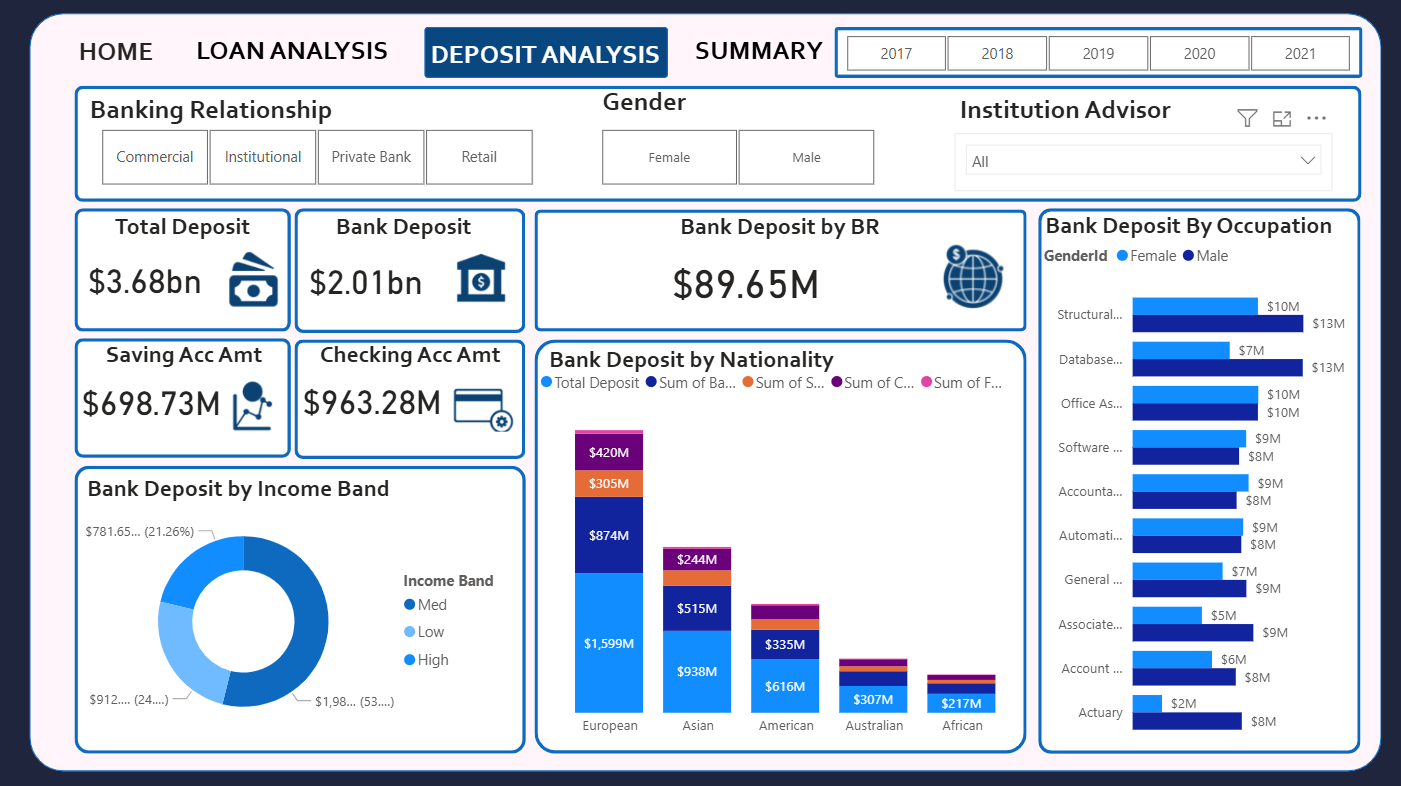

What the dashboard file says about the page in this screenshot:
{"tool":"powerbi","page":{"name":"Deposit Analysis","canvas":[1280,720],"ordinal":2},"visuals":[{"type":"shape","box":[29.6,14.8,1229.1,689.3],"z":0},{"type":"shape","box":[761.2,27.5,480,46.2],"z":1000},{"type":"shape","box":[70,81.1,1170,105.6],"z":2000},{"type":"shape","box":[70,191.8,196.6,112.2],"z":3000},{"type":"shape","box":[270.2,191.8,209.9,113.4],"z":4000},{"type":"shape","box":[70,425.9,410.2,261.8],"z":5000},{"type":"shape","box":[947.1,191.8,293.2,495.8],"z":6000},{"type":"textbox","box":[273.9,190.6,191.8,45.8],"z":7000},{"type":"textbox","box":[90.5,190.6,155.6,43.4],"z":9000},{"type":"textbox","box":[926.2,190,315,43.8],"z":10000},{"type":"shape","box":[388.8,27.5,221.2,46.2],"z":11000},{"type":"textbox","box":[176.2,28.8,187.5,43.8],"z":12000},{"type":"textbox","box":[387.5,31.2,222.5,45],"z":13000},{"type":"textbox","box":[608.8,28.8,167.5,46.2],"z":14000},{"type":"slicer","fields":{"Values":["Banking_Clients.Year"]},"box":[746.2,28.8,507.5,45],"z":15000},{"type":"textbox","box":[15,29,187,44],"z":16000},{"type":"shape","box":[488.6,193,447.6,111],"z":17000},{"type":"shape","box":[70,310.1,196.6,108.6],"z":18000},{"type":"shape","box":[270.2,311.3,209.9,108.6],"z":19000},{"type":"shape","box":[488.6,311.3,447.6,376.4],"z":20000},{"type":"textbox","box":[488.6,311.3,285.9,45.8],"z":21000},{"type":"textbox","box":[59.1,428.3,320.9,45.8],"z":22000},{"type":"textbox","box":[284.7,306.4,181,44.6],"z":23000},{"type":"textbox","box":[78.4,306.4,183.4,44.6],"z":24000},{"type":"textbox","box":[575.5,190.6,273.9,36.2],"z":25000},{"type":"actionButton","box":[58.8,26.2,100,45],"z":26000},{"type":"actionButton","box":[623.8,30,130,40],"z":27000},{"type":"card","fields":{"Values":["Banking_Clients.Total Deposit"]},"box":[59.1,236.5,150.8,41],"z":28000},{"type":"card","fields":{"Values":["Sum(Banking_Clients.Saving Accounts)"]},"box":[54.3,342.6,171.3,48.3],"z":29000},{"type":"card","fields":{"Values":["Sum(Banking_Clients.Checking Accounts)"]},"box":[270.2,336.6,141.2,60.3],"z":30000},{"type":"card","fields":{"Values":["Sum(Banking_Clients.Bank Deposits)"]},"box":[264.2,235.3,141.2,44.6],"z":31000},{"type":"donutChart","fields":{"Category":["Banking_Clients.Income Band"],"Y":["Banking_Clients.Total Deposit"]},"box":[73.6,456,400.5,224.4],"z":32000},{"type":"columnChart","fields":{"Category":["Banking_Clients.Nationality"],"Y":["Banking_Clients.Total Deposit","Sum(Banking_Clients.Bank Deposits)","Sum(Banking_Clients.Saving Accounts)","Sum(Banking_Clients.Checking Accounts)","Sum(Banking_Clients.Foreign Currency Account)"]},"box":[488.6,329.4,458.4,351.1],"z":33000},{"type":"clusteredBarChart","fields":{"Category":["Banking_Clients.Occupation"],"Y":["Sum(Banking_Clients.Bank Deposits)"],"Series":["Banking_Clients.GenderId"]},"box":[947.1,214.7,293.2,472.9],"z":34000},{"type":"textbox","box":[80,81.2,273.8,42.5],"z":35000},{"type":"textbox","box":[545,75,273.8,42.5],"z":36000},{"type":"textbox","box":[870,81.2,316.2,42.5],"z":37000},{"type":"slicer","fields":{"Values":["Banking_Clients.IAId"]},"box":[870,123.8,343.8,52.5],"z":38000},{"type":"slicer","fields":{"Values":["Banking_Clients.GenderId"]},"box":[523.8,113.8,297.5,63.8],"z":39000},{"type":"slicer","fields":{"Values":["Banking_Clients.BRId"]},"box":[68.8,113.8,441.2,63.8],"z":40000},{"type":"actionButton","box":[170,28.8,193.8,40],"z":41000},{"type":"actionButton","box":[58.8,27.5,100,40],"z":42000},{"type":"actionButton","box":[632.5,27.5,121.2,40],"z":43000},{"type":"card","fields":{"Values":["Sum(Banking_Clients.Foreign Currency Account)"]},"box":[587.5,229.2,187,56.7],"z":44000},{"type":"image","box":[405.4,216,67.6,76],"z":44001},{"type":"image","box":[407.8,342.6,67.6,60.3],"z":44002},{"type":"image","box":[201.5,342.6,57.9,60.3],"z":44003},{"type":"image","box":[196.6,222,67.6,70],"z":44004},{"type":"image","box":[848.1,213.5,78.4,78.4],"z":44005}]}

Visuals, with their boxes in screenshot pixels (x1, y1, x2, y2), scaled from the page's 1280x720 canvas onto the 1401x786 screenshot:
shape: box(32, 16, 1378, 769)
shape: box(833, 30, 1359, 80)
shape: box(77, 89, 1357, 204)
shape: box(77, 209, 292, 332)
shape: box(296, 209, 525, 333)
shape: box(77, 465, 526, 751)
shape: box(1037, 209, 1358, 751)
textbox: box(300, 208, 510, 258)
textbox: box(99, 208, 269, 255)
textbox: box(1014, 207, 1359, 255)
shape: box(426, 30, 668, 80)
textbox: box(193, 31, 398, 79)
textbox: box(424, 34, 668, 83)
textbox: box(666, 31, 850, 82)
slicer - Banking_Clients.Year: box(817, 31, 1372, 81)
textbox: box(16, 32, 221, 80)
shape: box(535, 211, 1025, 332)
shape: box(77, 339, 292, 457)
shape: box(296, 340, 525, 458)
shape: box(535, 340, 1025, 751)
textbox: box(535, 340, 848, 390)
textbox: box(65, 468, 416, 518)
textbox: box(312, 334, 510, 383)
textbox: box(86, 334, 287, 383)
textbox: box(630, 208, 930, 248)
actionButton: box(64, 29, 174, 78)
actionButton: box(683, 33, 825, 76)
card - Banking_Clients.Total Deposit: box(65, 258, 230, 303)
card - Sum(Banking_Clients.Saving Accounts): box(59, 374, 247, 427)
card - Sum(Banking_Clients.Checking Accounts): box(296, 367, 450, 433)
card - Sum(Banking_Clients.Bank Deposits): box(289, 257, 444, 306)
donutChart - Banking_Clients.Income Band x Banking_Clients.Total Deposit: box(81, 498, 519, 743)
columnChart - Banking_Clients.Nationality x Banking_Clients.Total Deposit: box(535, 360, 1037, 743)
clusteredBarChart - Banking_Clients.Occupation x Sum(Banking_Clients.Bank Deposits): box(1037, 234, 1358, 751)
textbox: box(88, 89, 387, 135)
textbox: box(597, 82, 896, 128)
textbox: box(952, 89, 1298, 135)
slicer - Banking_Clients.IAId: box(952, 135, 1329, 192)
slicer - Banking_Clients.GenderId: box(573, 124, 899, 194)
slicer - Banking_Clients.BRId: box(75, 124, 558, 194)
actionButton: box(186, 31, 398, 75)
actionButton: box(64, 30, 174, 74)
actionButton: box(692, 30, 825, 74)
card - Sum(Banking_Clients.Foreign Currency Account): box(643, 250, 848, 312)
image: box(444, 236, 518, 319)
image: box(446, 374, 520, 440)
image: box(221, 374, 284, 440)
image: box(215, 242, 289, 319)
image: box(928, 233, 1014, 319)
